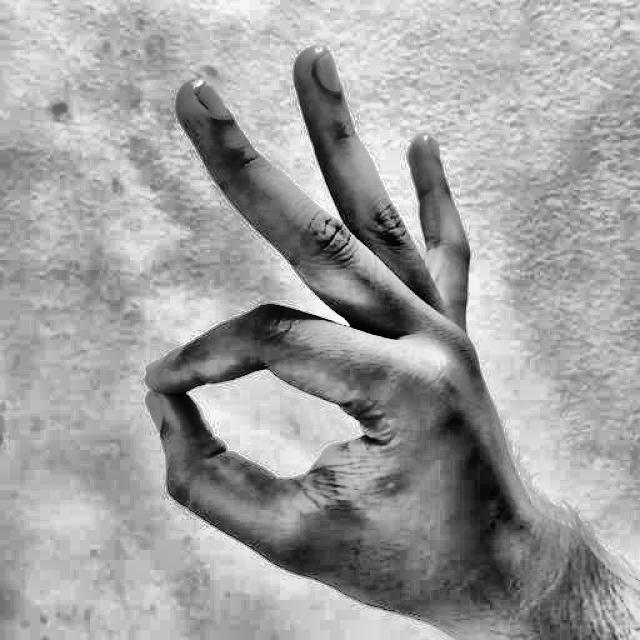Ca: (121, 32, 598, 640)
